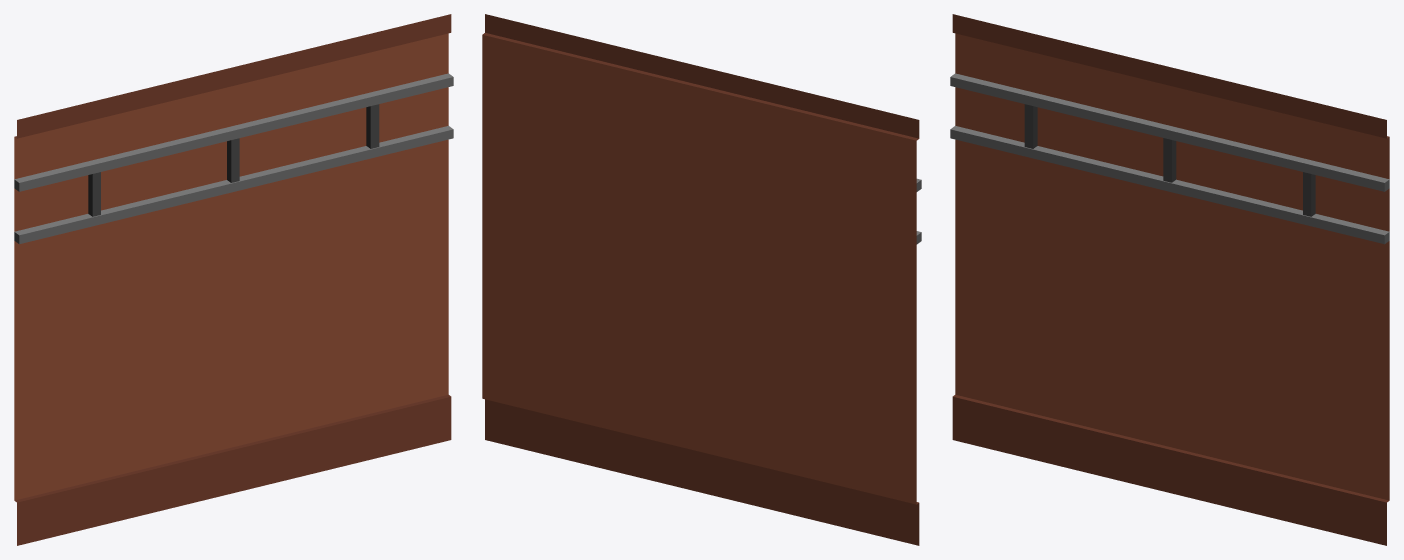
File: AI_Env_Wall_Red_Electronics_Straight.fbx
The picture shows the model from 3 angles, left to right: view 1: azimuth 30°, elevation 25°; view 2: azimuth 150°, elevation 25°; view 3: azimuth 330°, elevation 25°; orthographic projection.
Visible parts, largest first — view 1: AI_Env_Wall_Red_Electronics_Straight; view 2: AI_Env_Wall_Red_Electronics_Straight; view 3: AI_Env_Wall_Red_Electronics_Straight.
Boxes of the visible parts, x1,y1,x2,y2 form: AI_Env_Wall_Red_Electronics_Straight: [14, 14, 453, 545]; AI_Env_Wall_Red_Electronics_Straight: [482, 14, 921, 545]; AI_Env_Wall_Red_Electronics_Straight: [950, 14, 1389, 545].
Size of the model in its own units: 5 by 4.69 by 0.0984.
